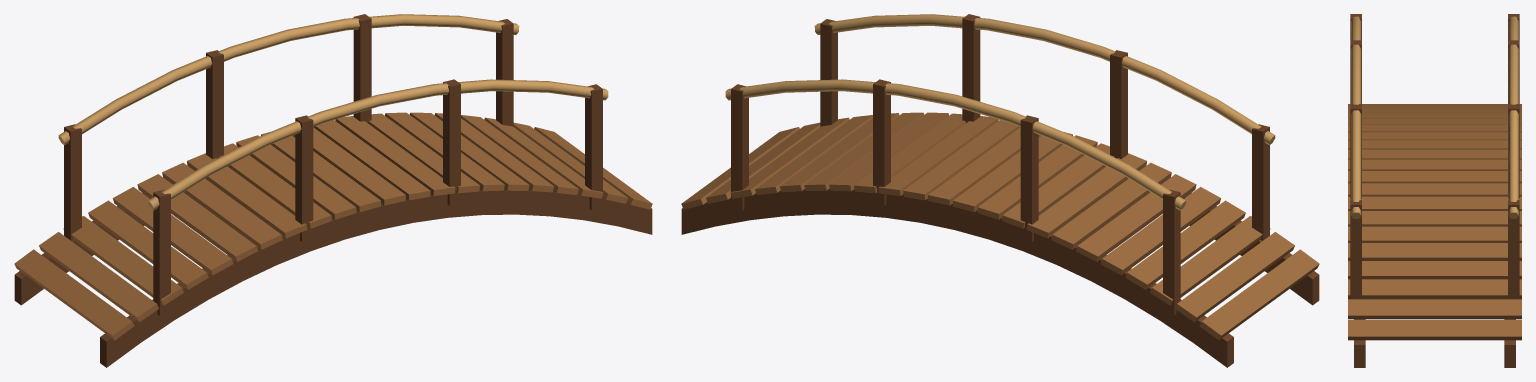
File: bridge-wood-pixor.glb
3 views of the same model, side by side, from view 1: azimuth 30°, elevation 25°; view 2: azimuth 150°, elevation 25°; view 3: azimuth 270°, elevation 25° (orthographic). The views are drawn at different scales.
Visible parts, largest first — view 1: Bridge deck, Bridge posts, Bridge stringers, Bridge rails; view 2: Bridge deck, Bridge posts, Bridge stringers, Bridge rails; view 3: Bridge deck, Bridge rails, Bridge posts, Bridge stringers.
Boxes of the visible parts, x1=… form: Bridge deck: x1=14, y1=112, x2=652, y2=340; Bridge posts: x1=64, y1=14, x2=602, y2=315; Bridge stringers: x1=14, y1=188, x2=652, y2=367; Bridge rails: x1=58, y1=14, x2=608, y2=210; Bridge deck: x1=681, y1=112, x2=1319, y2=340; Bridge posts: x1=731, y1=14, x2=1269, y2=315; Bridge stringers: x1=681, y1=188, x2=1319, y2=367; Bridge rails: x1=725, y1=14, x2=1275, y2=210; Bridge deck: x1=1348, y1=104, x2=1521, y2=340; Bridge rails: x1=1351, y1=16, x2=1518, y2=218; Bridge posts: x1=1350, y1=14, x2=1519, y2=299; Bridge stringers: x1=1354, y1=319, x2=1515, y2=367.
Bounding box in the file's own units: 4.8 × 1.72 × 1.5.
